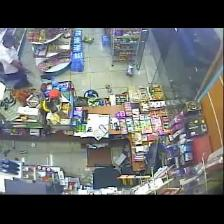person: (0, 34, 30, 89)
